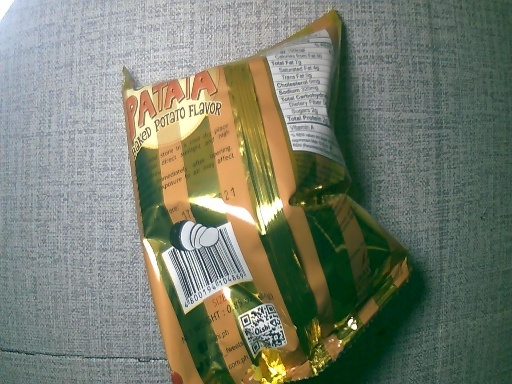plastic: (116, 16, 412, 384)
